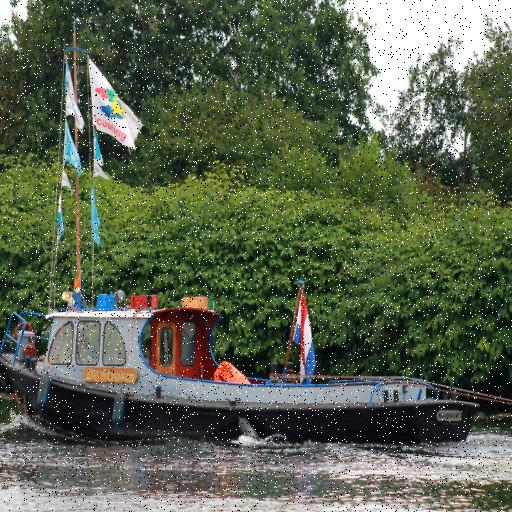tugboat: (1, 272, 483, 453)
